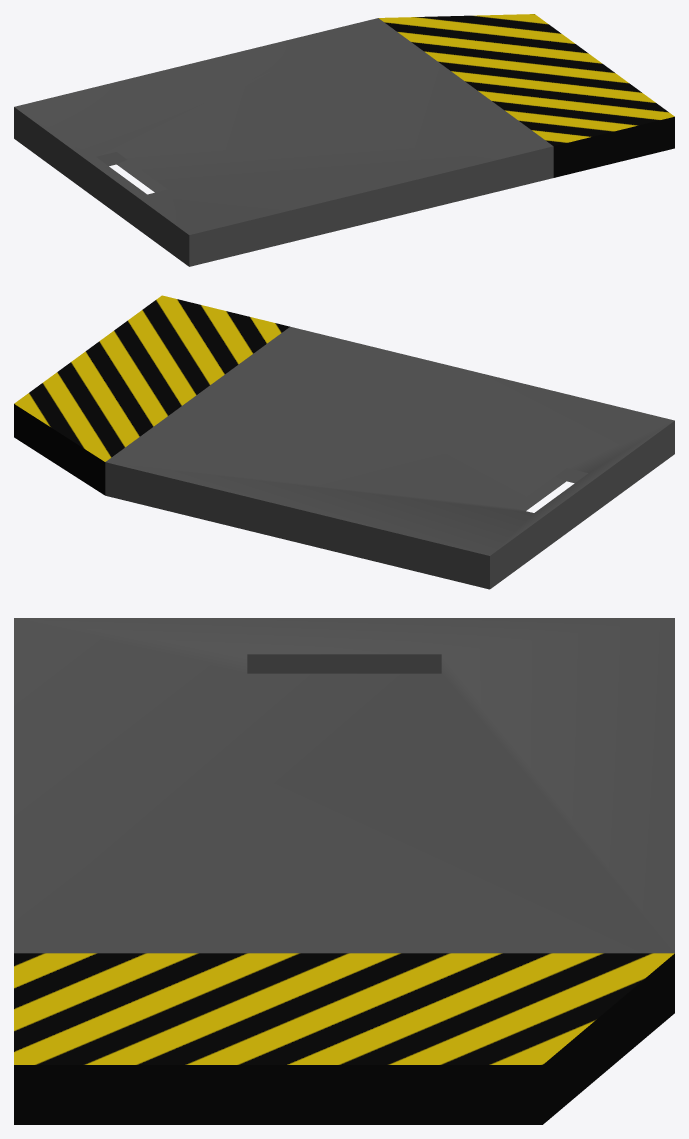
The model's file is PraedatumBossRoomKey.glb.
3 views of the same model, one above another, from view 1: azimuth 30°, elevation 25°; view 2: azimuth 150°, elevation 25°; view 3: azimuth 270°, elevation 25° (orthographic). The views are drawn at different scales.
Visible parts, largest first — view 1: Key; view 2: Key; view 3: Key.
Boxes of the visible parts, left/top/right/bottom form: Key: left=14, top=14, right=674, bottom=266; Key: left=14, top=295, right=674, bottom=589; Key: left=14, top=618, right=674, bottom=1124.
Size of the model in its own units: 1.6 by 0.1 by 1.
Materials: 2 (1 with a texture image).
